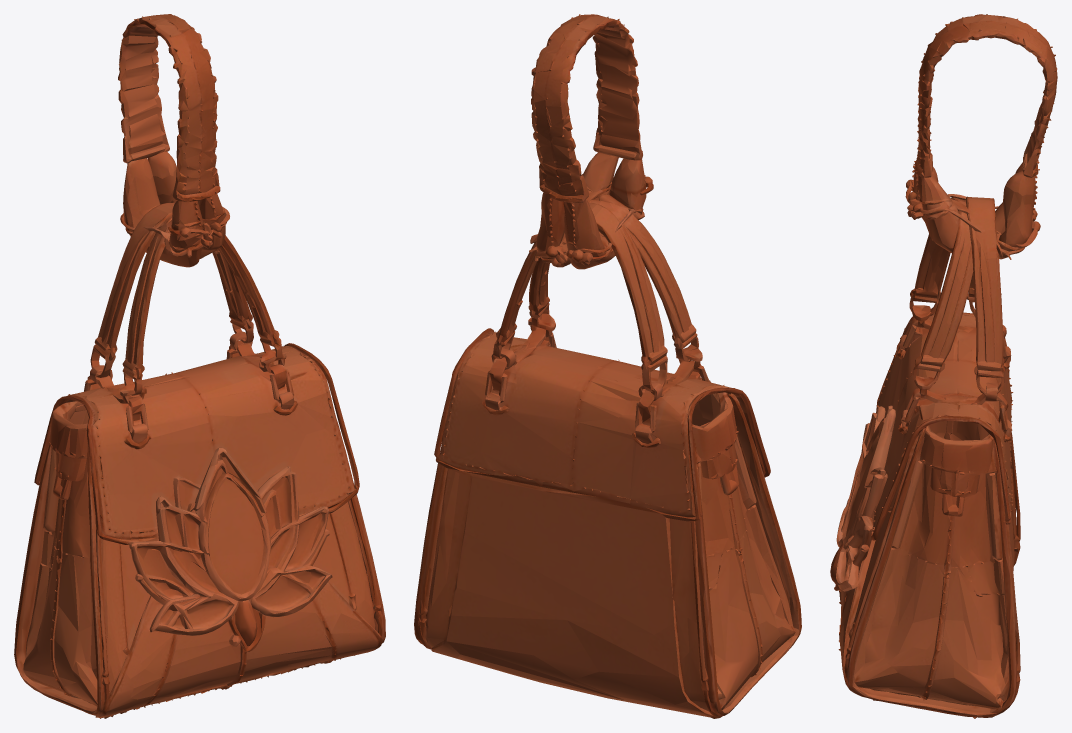
3 renders of one model, left to right at view 1: azimuth 30°, elevation 25°; view 2: azimuth 150°, elevation 25°; view 3: azimuth 270°, elevation 25°, orthographic. The views are drawn at different scales.
Visible parts, largest first — view 1: Mesh_0; view 2: Mesh_0; view 3: Mesh_0.
Boxes of the visible parts, box(x1,y1,x2,y2) form: Mesh_0: box(14, 14, 385, 718); Mesh_0: box(414, 14, 801, 718); Mesh_0: box(830, 14, 1057, 718).
Bounding box in the file's own units: 0.911 × 1.9 × 0.6121.
Materials: 1 (1 with a texture image).
